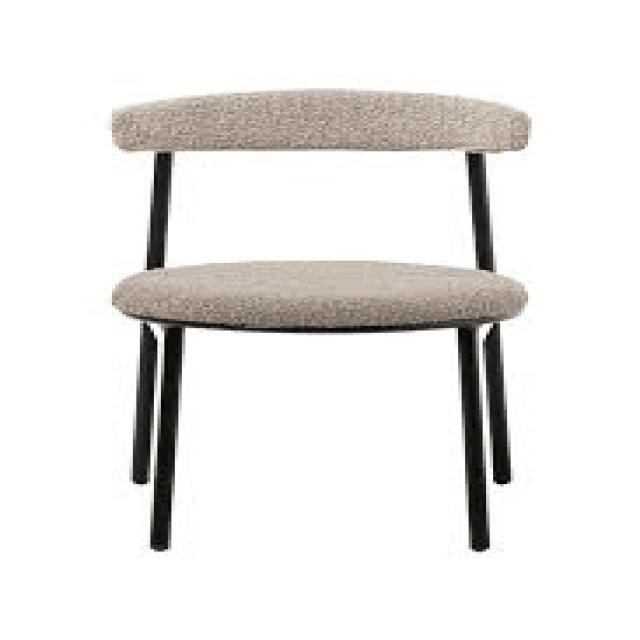chair: (109, 88, 532, 553)
